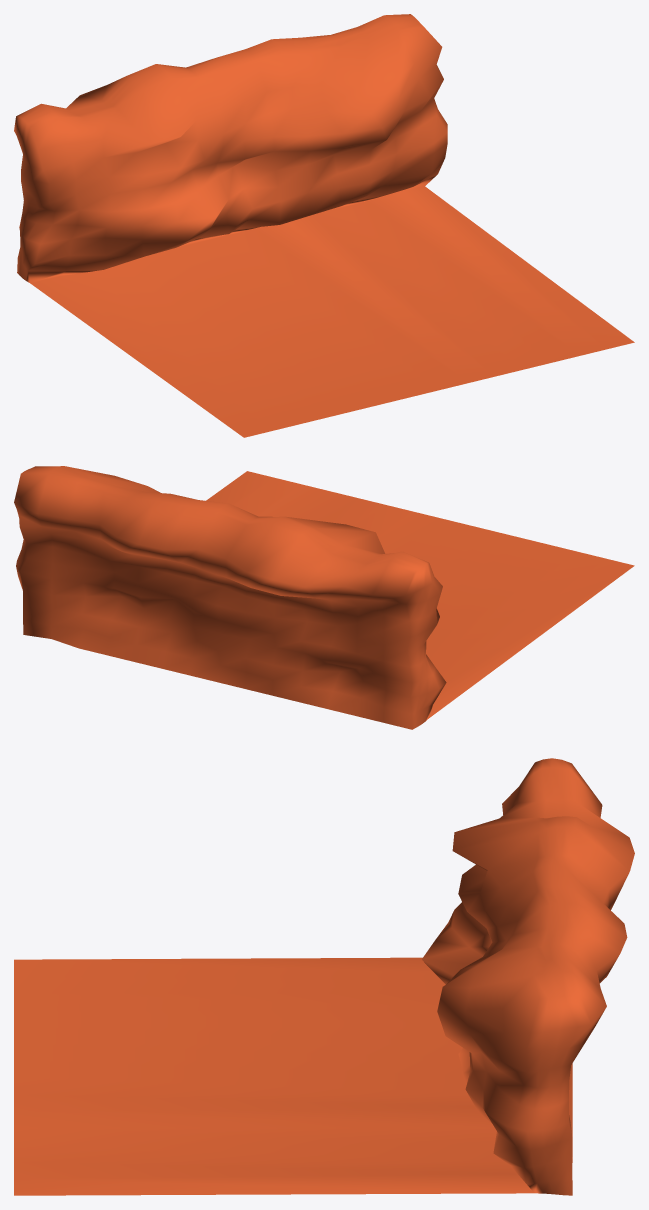
The model's file is Wall_Clif.fbx.
3 views of the same model, one above another, from view 1: azimuth 30°, elevation 25°; view 2: azimuth 150°, elevation 25°; view 3: azimuth 270°, elevation 25° (orthographic). The views are drawn at different scales.
Visible parts, largest first — view 1: Wall_Clif; view 2: Wall_Clif; view 3: Wall_Clif.
Part boxes in pixels (x1,y1,x2,y2): Wall_Clif: (14,14,634,437); Wall_Clif: (14,466,634,729); Wall_Clif: (14,758,634,1195).
Bounding box in the file's own units: 1726 × 685 × 1779.
